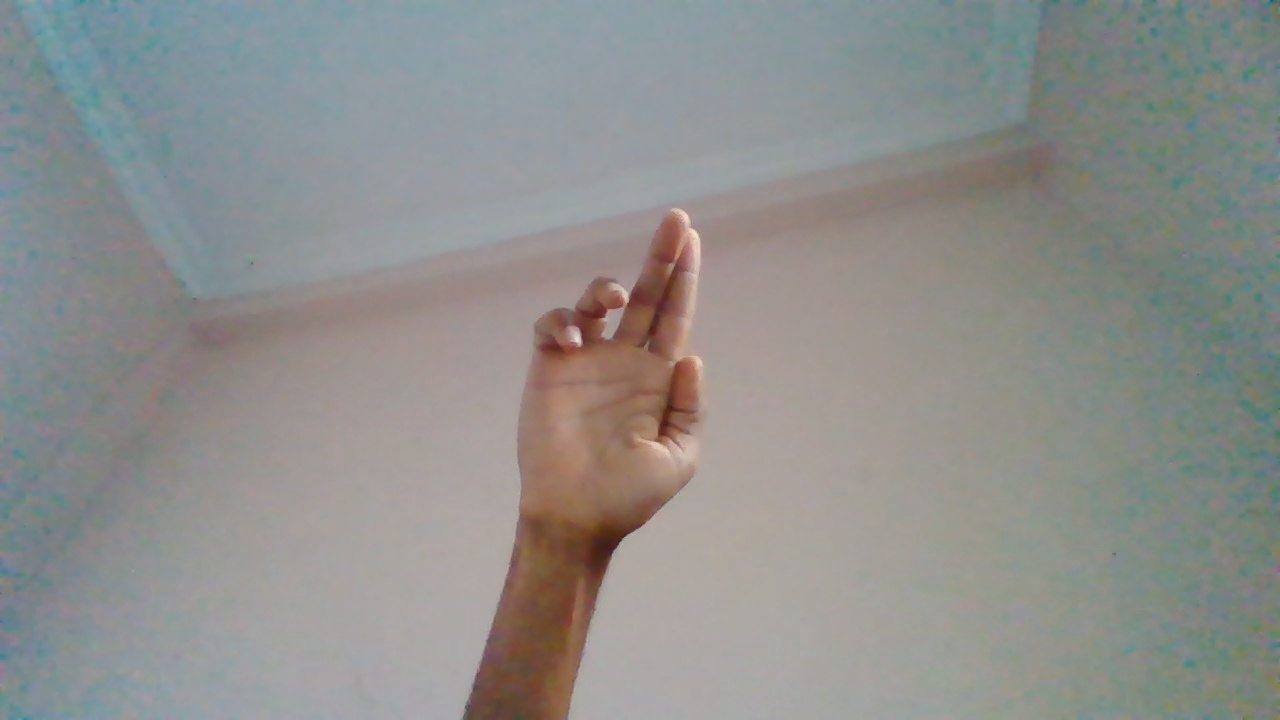gne: (501, 207, 703, 605)
